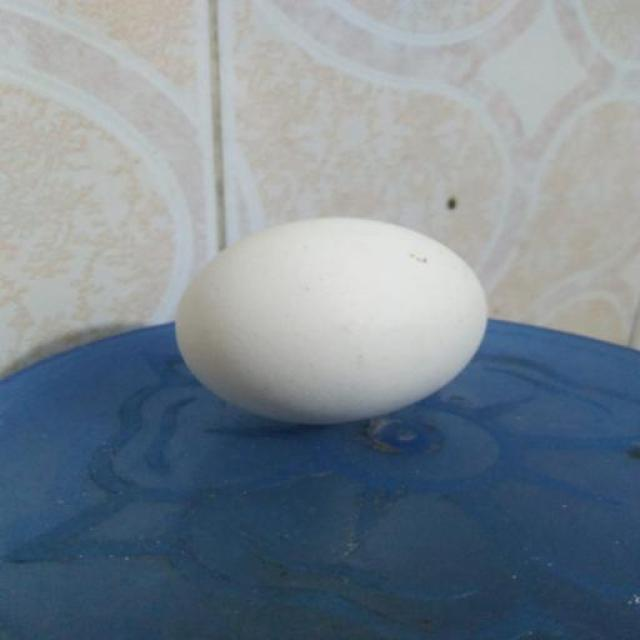telur: (178, 218, 487, 424)
